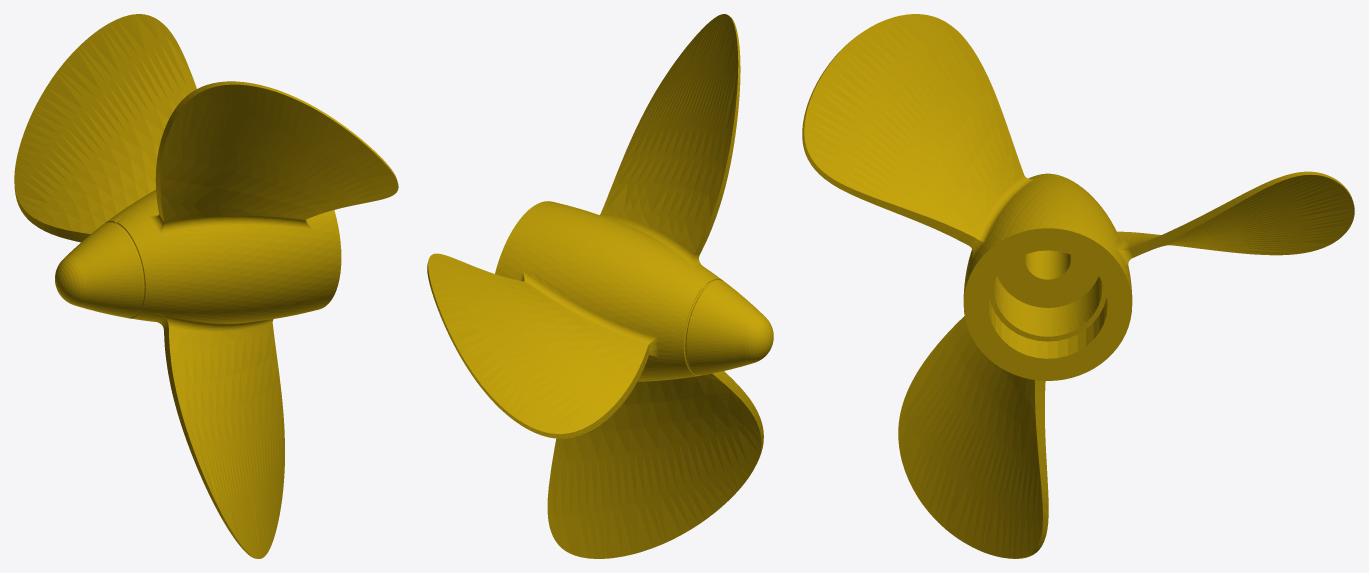
The model's file is propeller.dae.
3 views of the same model, side by side, from view 1: azimuth 30°, elevation 25°; view 2: azimuth 150°, elevation 25°; view 3: azimuth 270°, elevation 25° (orthographic).
Parts seen in each view (by area): view 1: node; view 2: node; view 3: node.
Boxes of the visible parts, left/top/right/bottom form: node: left=14, top=14, right=398, bottom=558; node: left=427, top=14, right=773, bottom=558; node: left=802, top=14, right=1354, bottom=558.
Bounding box in the file's own units: 100 × 205 × 203.
1 material, 1 textured.
